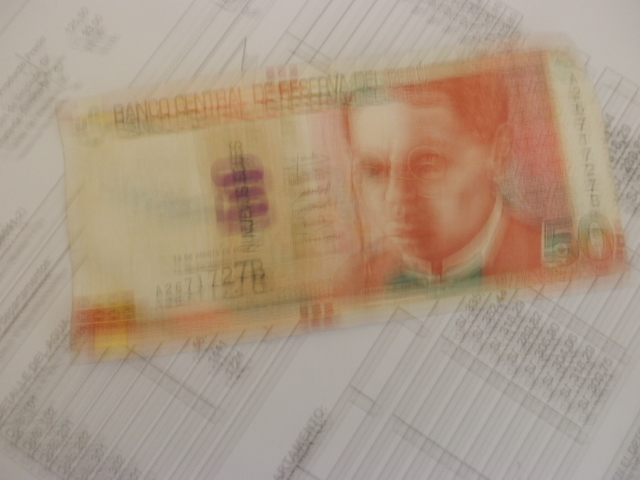B50: (57, 85, 620, 306)
